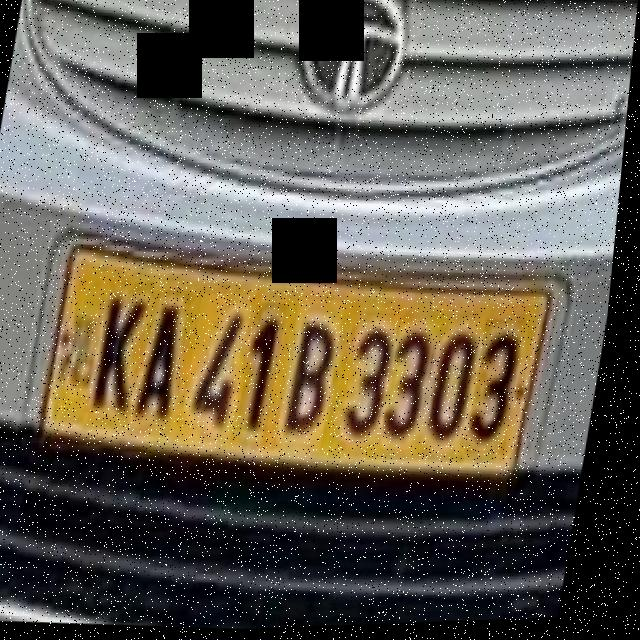0: (432, 317, 493, 456)
1: (244, 303, 294, 434)
3: (473, 322, 532, 459), (347, 316, 406, 446), (388, 326, 445, 454)
4: (186, 294, 261, 449)
A: (139, 291, 198, 430)
B: (283, 300, 351, 456)
K: (94, 280, 159, 426)
